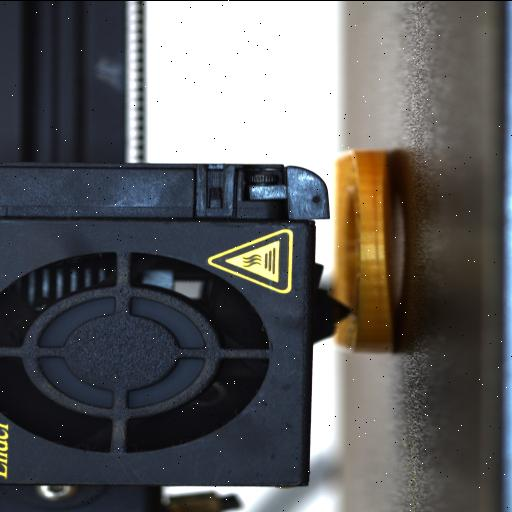warp: (371, 152, 411, 346)
